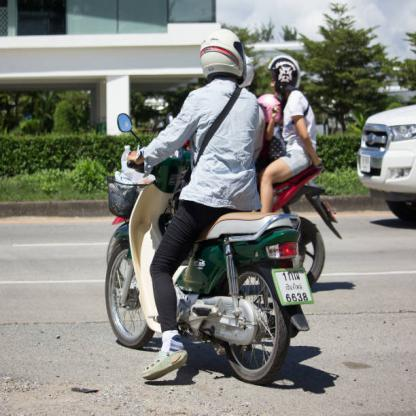Motorcycle: (92, 123, 300, 389)
